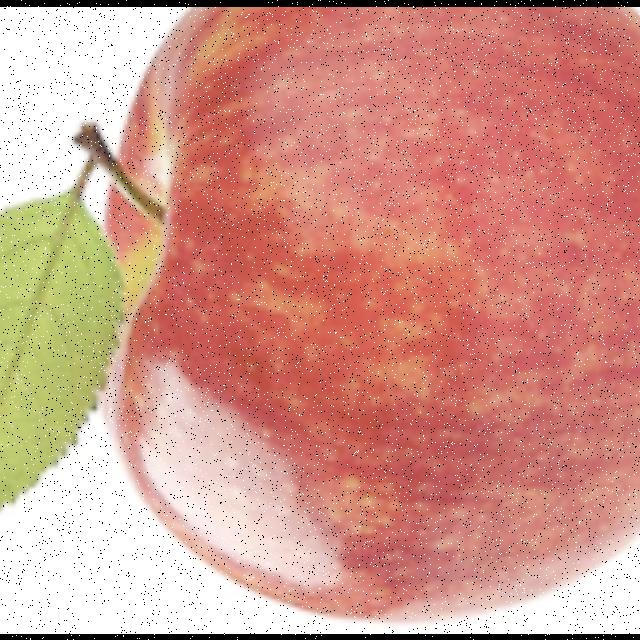Apel Segar: (103, 6, 640, 628)
